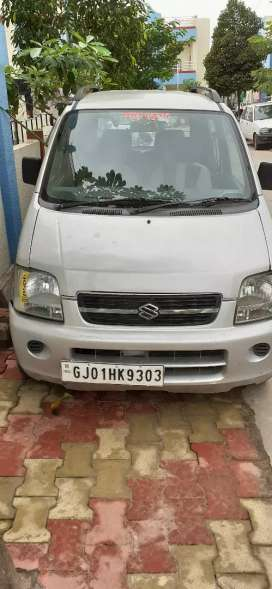license_plate: (62, 363, 164, 386)
